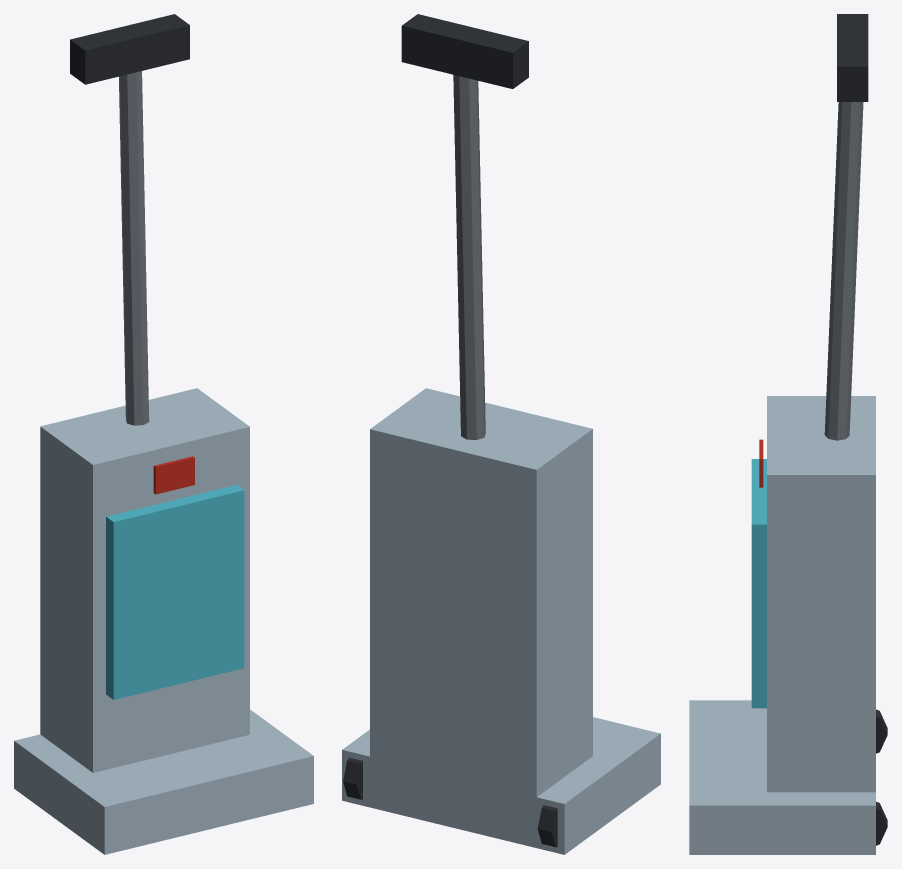
File: vacuum.glb
The picture shows the model from 3 angles, left to right: view 1: azimuth 30°, elevation 25°; view 2: azimuth 150°, elevation 25°; view 3: azimuth 270°, elevation 25°; orthographic projection. The views are drawn at different scales.
Visible parts, largest first — view 1: vacuum_mesh; view 2: vacuum_mesh; view 3: vacuum_mesh.
Boxes of the visible parts, bbox=[...] form: vacuum_mesh: bbox=[14, 14, 313, 854]; vacuum_mesh: bbox=[342, 14, 660, 854]; vacuum_mesh: bbox=[689, 14, 887, 854].
Size of the model in its own units: 0.32 by 1.08 by 0.255.
Materials: 1 (1 with a texture image).
